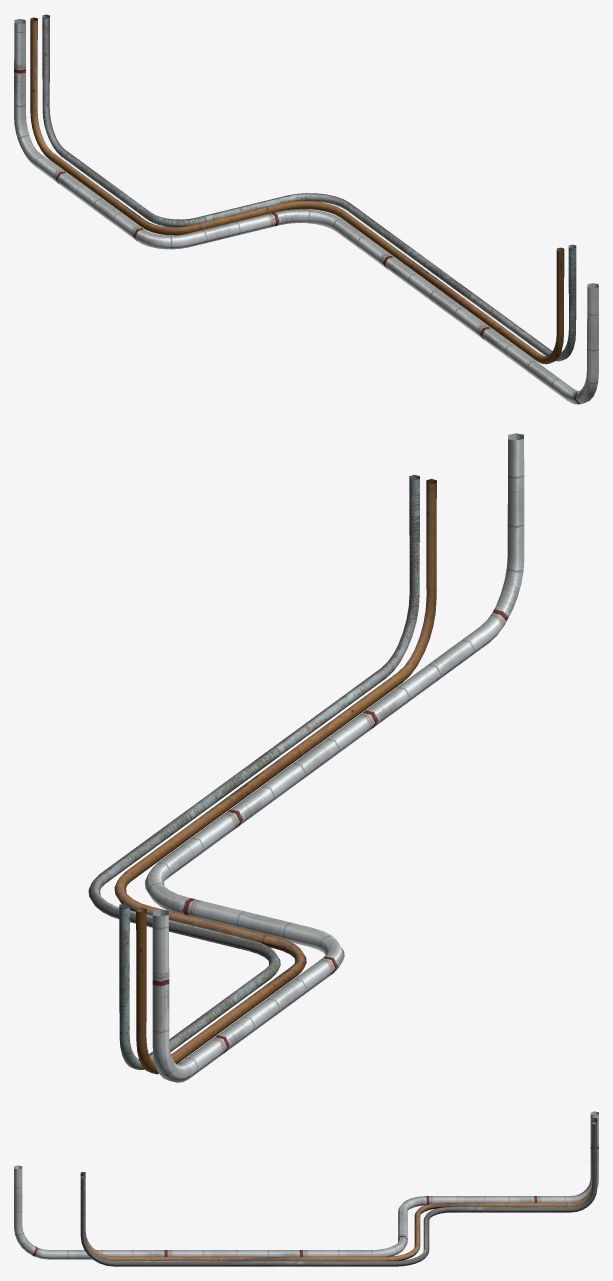
File: EQP_PIPES004.FBX
3 renders of one model, top to bottom at view 1: azimuth 30°, elevation 25°; view 2: azimuth 150°, elevation 25°; view 3: azimuth 270°, elevation 25°, orthographic. The views are drawn at different scales.
Parts seen in each view (by area): view 1: Rectangle054, Rectangle052, Rectangle053; view 2: Rectangle054, Rectangle053, Rectangle052; view 3: Rectangle054, Rectangle053, Rectangle052.
Boxes of the visible parts, <box> form: Rectangle054: <box>14,19,598,404</box>; Rectangle052: <box>30,17,564,364</box>; Rectangle053: <box>42,14,576,361</box>; Rectangle054: <box>145,433,524,1082</box>; Rectangle053: <box>88,474,419,1069</box>; Rectangle052: <box>114,479,436,1074</box>; Rectangle054: <box>14,1111,598,1259</box>; Rectangle053: <box>80,1122,597,1266</box>; Rectangle052: <box>80,1118,597,1260</box>.
Size of the model in its own units: 245 by 158 by 915.
1 material, 1 textured.
